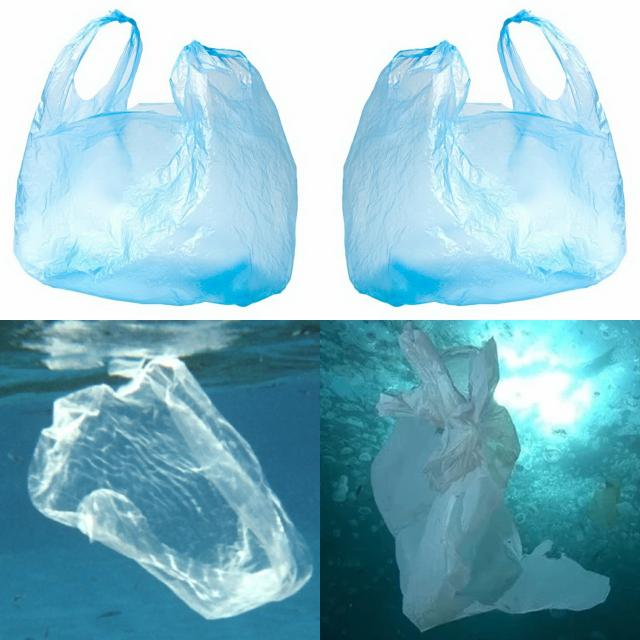Single-layer Plastic: (15, 11, 298, 305), (342, 11, 625, 305), (29, 355, 311, 618), (371, 324, 610, 631)
